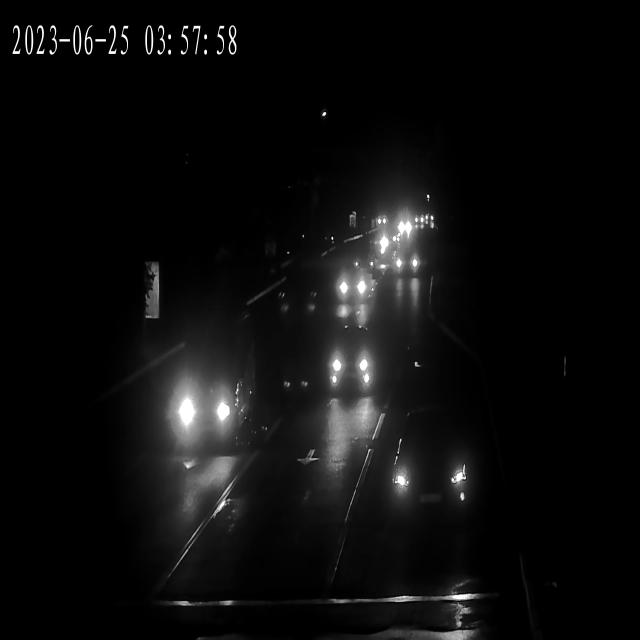Car: (154, 345, 253, 456), (385, 422, 482, 514), (324, 335, 378, 389), (334, 267, 376, 306), (389, 247, 422, 278), (371, 231, 403, 254), (369, 227, 398, 251), (393, 219, 412, 234), (371, 215, 389, 228)
